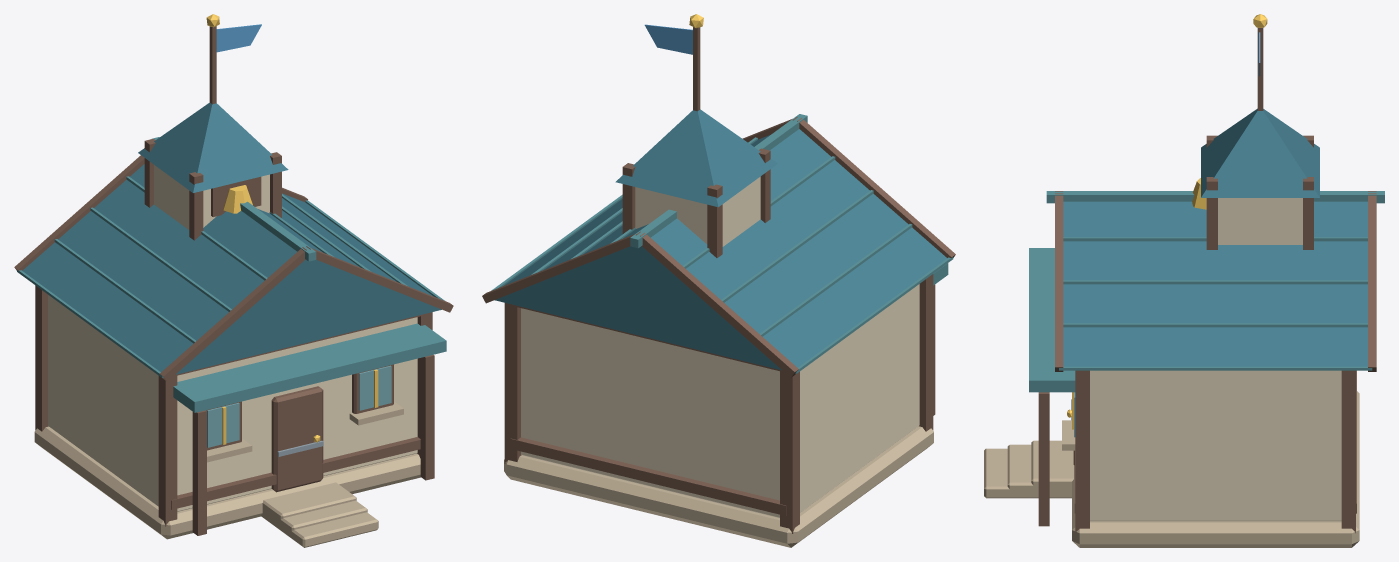
Rendered from town_center.glb.
The picture shows the model from 3 angles, left to right: view 1: azimuth 30°, elevation 25°; view 2: azimuth 150°, elevation 25°; view 3: azimuth 270°, elevation 25°; orthographic projection. The views are drawn at different scales.
Parts seen in each view (by area): view 1: town_center; view 2: town_center; view 3: town_center.
Part boxes in pixels (<box>): town_center: <box>14,14,453,547</box>; town_center: <box>482,14,955,547</box>; town_center: <box>984,14,1384,547</box>.
Bounding box in the file's own units: 4.2 × 5.98 × 4.67.
